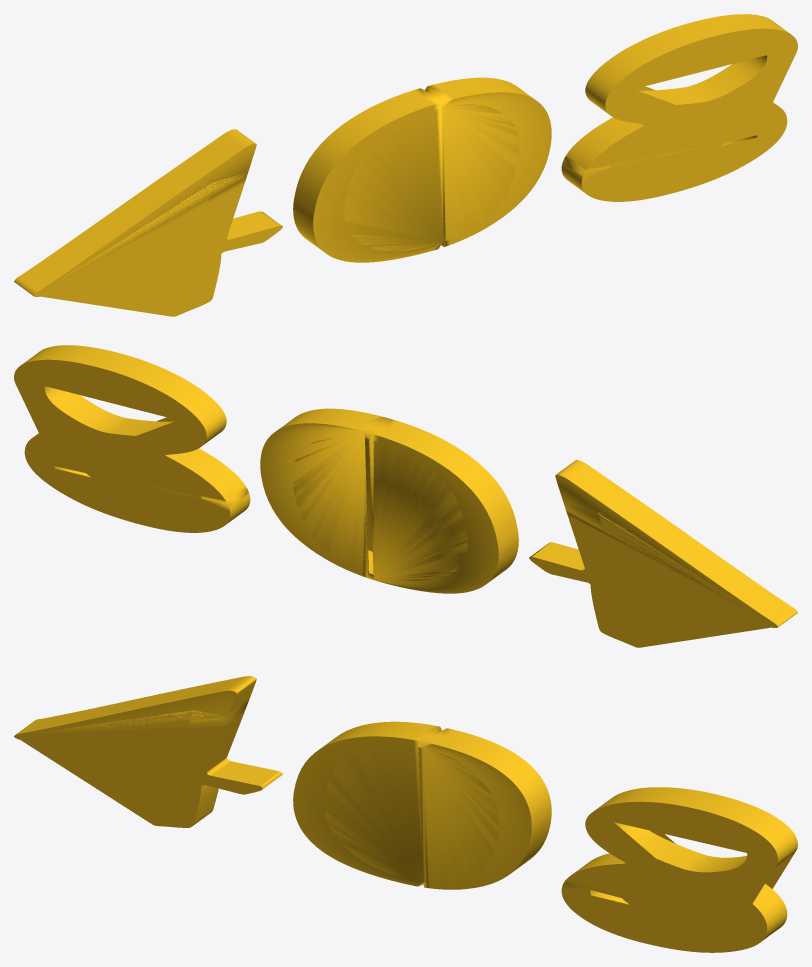
3 renders of one model, top to bottom at view 1: azimuth 30°, elevation 25°; view 2: azimuth 150°, elevation 25°; view 3: azimuth 330°, elevation 25°, orthographic.
Visible parts, largest first — view 1: T_408_LOD0; view 2: T_408_LOD0; view 3: T_408_LOD0.
Part boxes in pixels (x1,y1,x2,y2): T_408_LOD0: (14, 14, 797, 316); T_408_LOD0: (14, 345, 797, 647); T_408_LOD0: (14, 676, 797, 952).
Size of what is drawn, in the model's own units: 20.12 by 3.86 by 0.9122.
